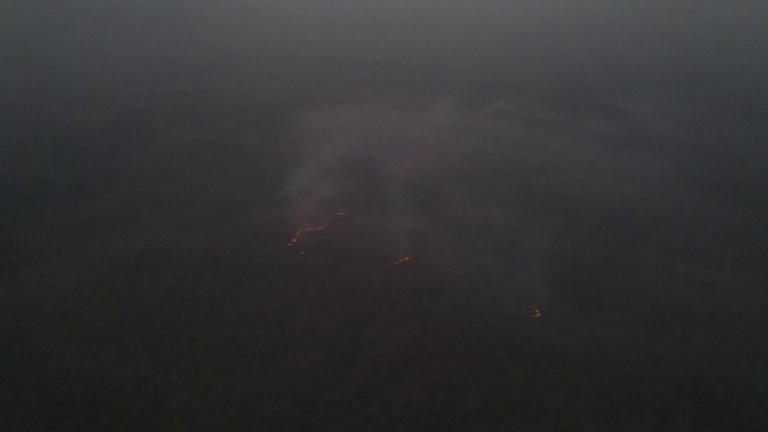fire: (285, 224, 330, 257), (516, 302, 548, 324), (380, 253, 416, 270), (330, 207, 349, 220)
smoke: (287, 103, 482, 248)
